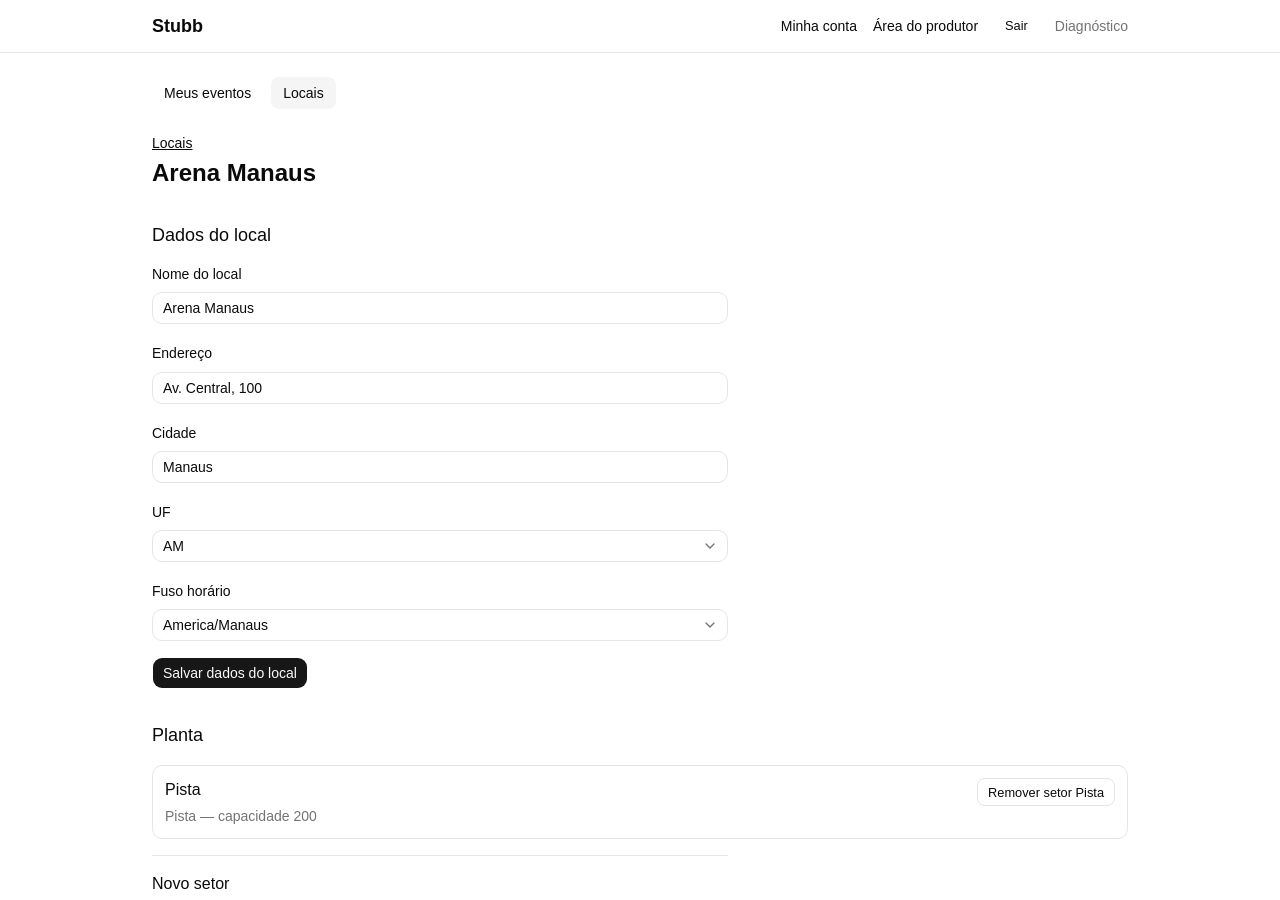
Test case: locais do produtor › 409 na edição mostra o aviso, recarrega a leitura e reabre o formulário com a versão nova
Expected: the heading "Arena Manaus" is shown, [152,159,316,186]
Replace the text in the field labelled "Nome do local" with "Meu nome" at (440, 308), box [152,292,728,324]
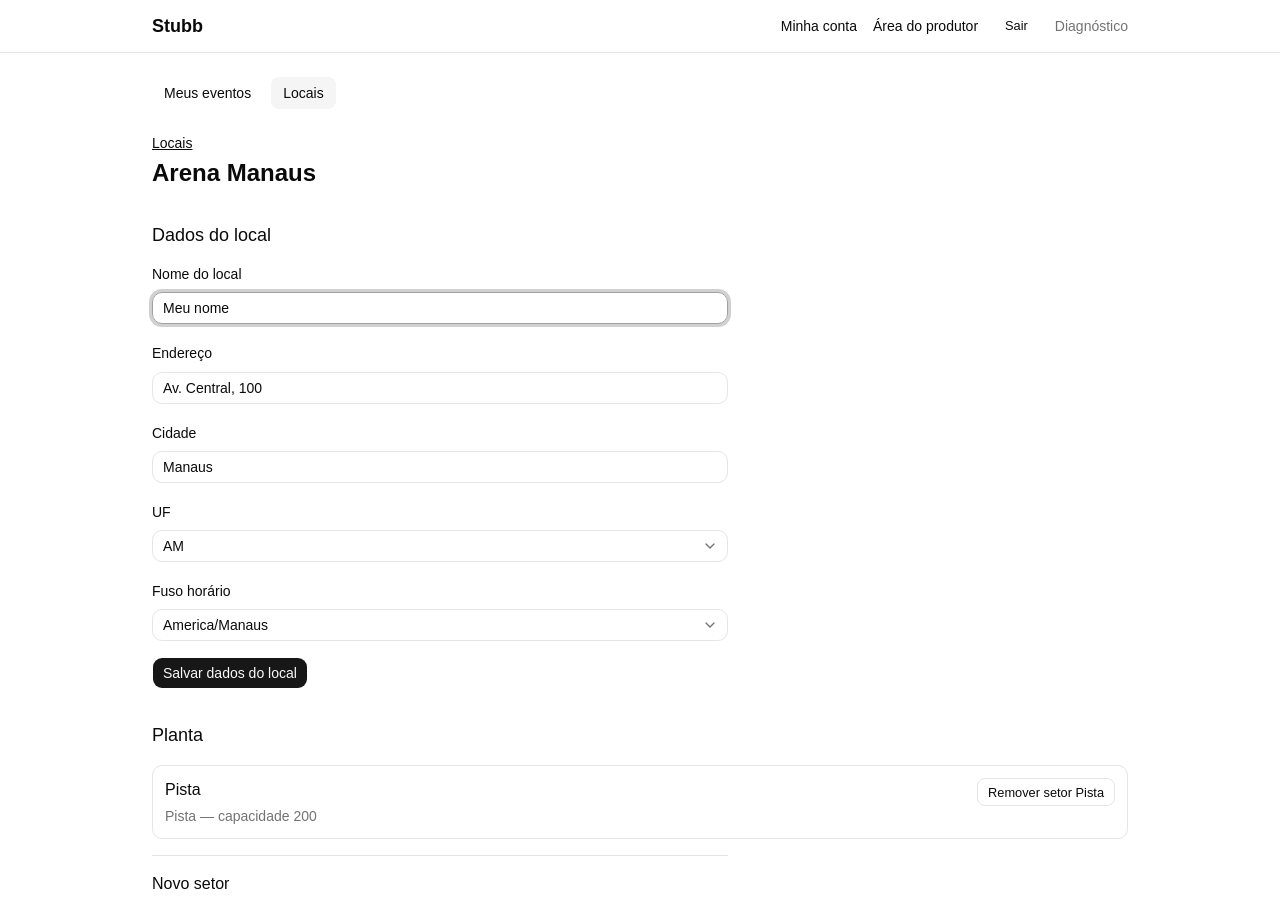
Click the button "Salvar dados do local" at (230, 673), box [152,657,308,689]
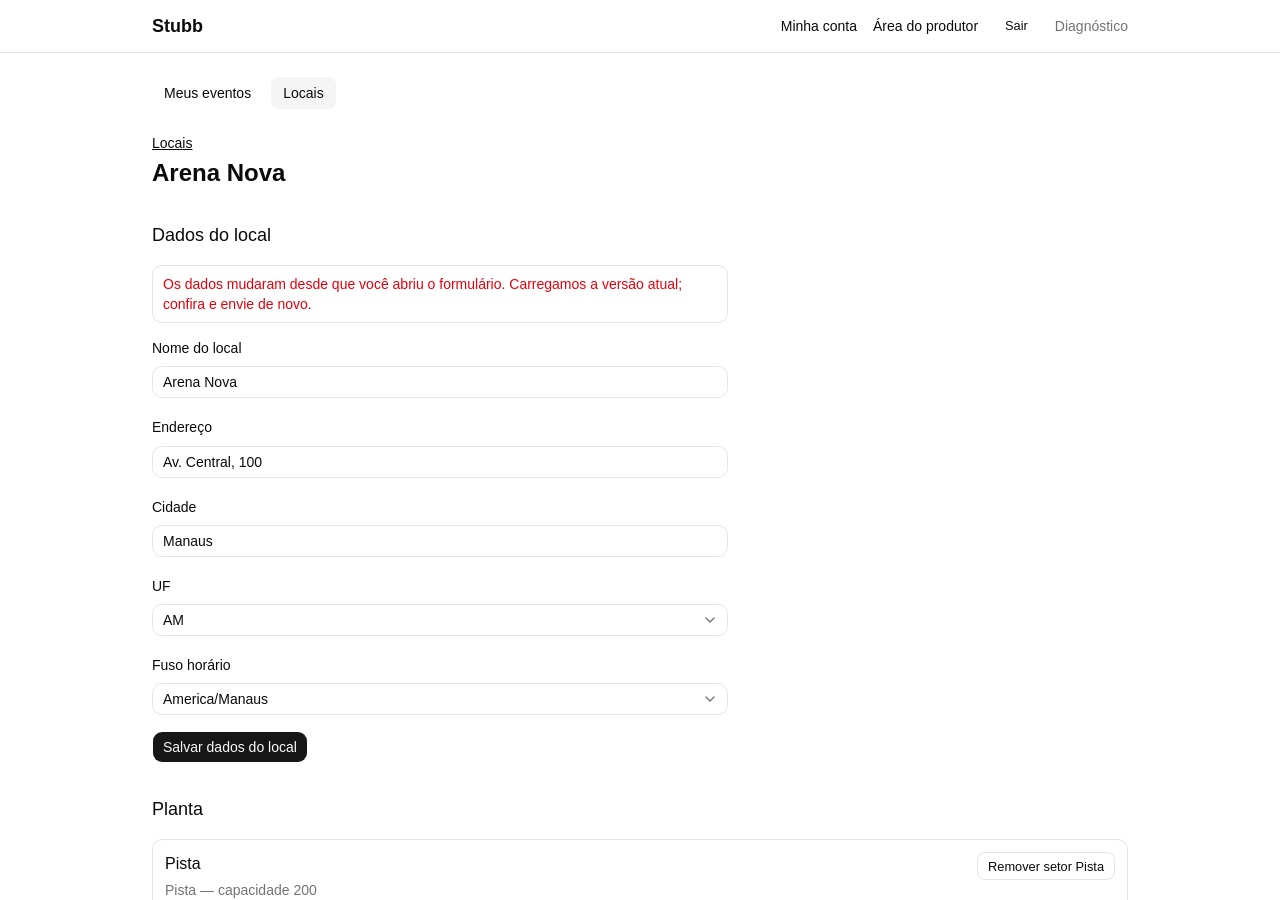
Result: the text "Os dados mudaram desde que você abriu o formulário" is shown at [163,276,682,312]
Result: the field labelled "Nome do local" holds "Arena Nova" at [152,366,728,398]
Result: the heading "Arena Nova" is shown at [152,159,285,186]
